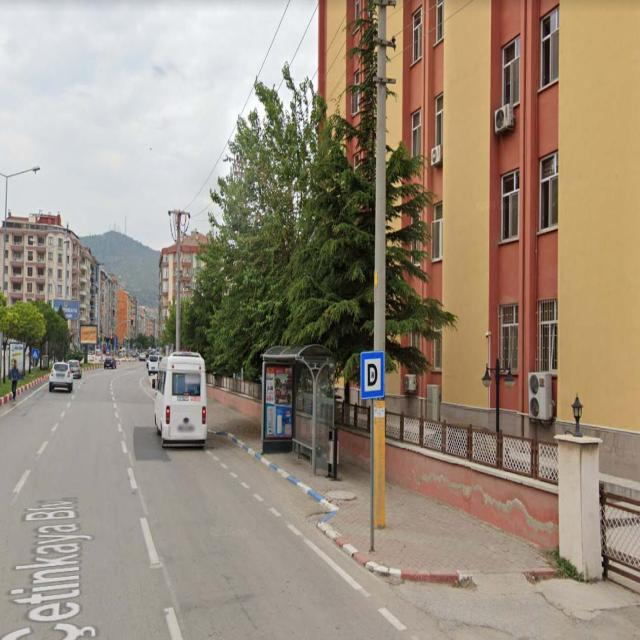durak: (361, 354, 384, 399)
